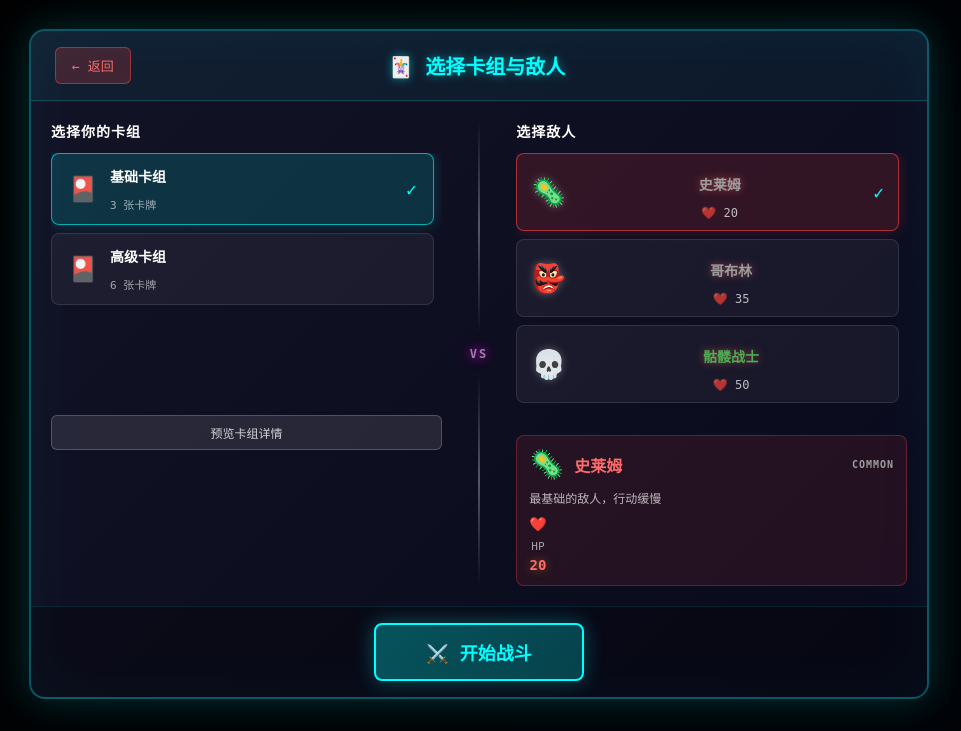
Test: DeckSelectScene Component › 卡组预览 › 点击预览按钮应该显示卡组详情
Click the button "预览卡组详情" at (246, 432), box 51,415 -> 442,450
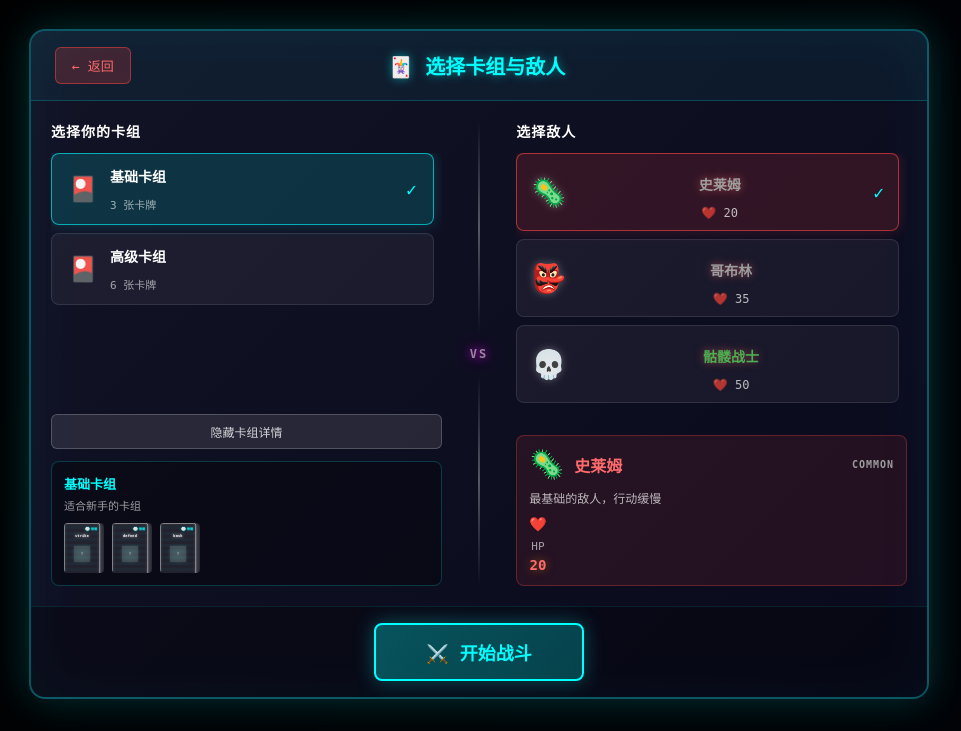
Expected: the button "隐藏卡组详情" is shown, 51,414 -> 442,449
Expected: the text "适合新手的卡组" is shown, 64,500 -> 141,513
